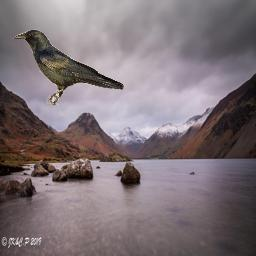Crow: (12, 29, 125, 105)
